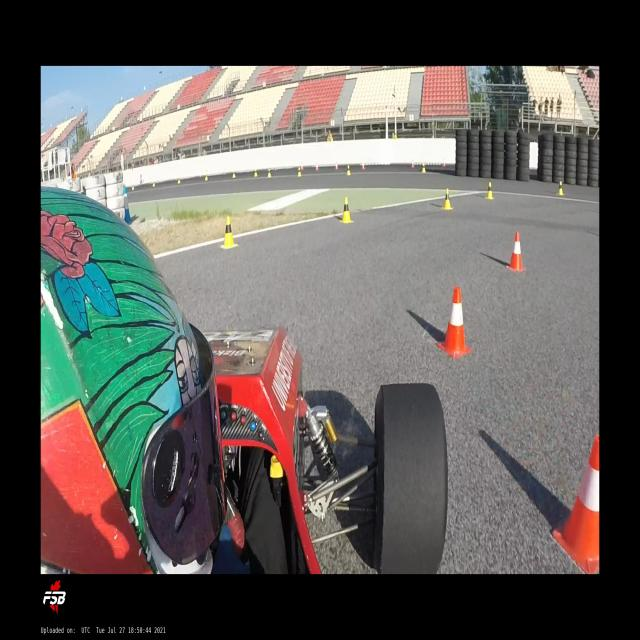blue_cone: (124, 188, 132, 222)
orange_cone: (552, 434, 599, 574), (436, 286, 473, 358), (506, 232, 526, 272), (300, 162, 304, 171), (411, 160, 415, 169), (361, 162, 365, 171), (316, 162, 320, 171), (442, 160, 446, 168), (334, 162, 338, 170), (274, 164, 277, 172), (246, 167, 249, 173)
unknown_cone: (152, 179, 156, 188)
yellow_cone: (221, 216, 237, 248), (340, 196, 354, 224), (441, 188, 453, 210), (484, 181, 494, 200), (556, 180, 565, 196), (346, 164, 352, 176), (297, 166, 302, 177), (422, 162, 426, 173), (268, 168, 272, 177), (254, 168, 258, 177), (232, 170, 236, 178), (152, 180, 156, 188), (205, 171, 208, 181), (177, 176, 181, 183)
